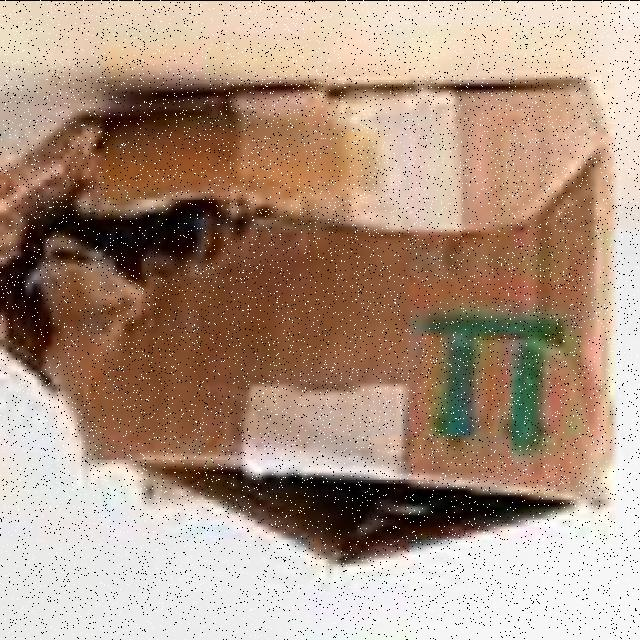defect: (1, 66, 622, 577)
